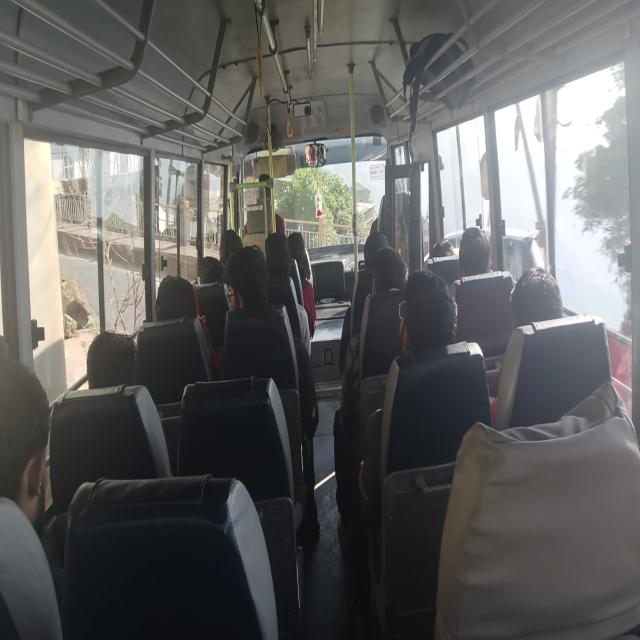person: (434, 380, 639, 638), (356, 268, 492, 632), (221, 244, 320, 538), (358, 268, 458, 506), (333, 246, 408, 547), (0, 358, 63, 638), (86, 330, 172, 476), (489, 266, 565, 427), (339, 230, 389, 375), (154, 274, 220, 377), (264, 231, 311, 360), (399, 268, 458, 352), (510, 266, 564, 330), (287, 230, 317, 338), (86, 330, 137, 389), (458, 226, 492, 278), (220, 228, 242, 266), (198, 256, 224, 283), (430, 238, 457, 258)
